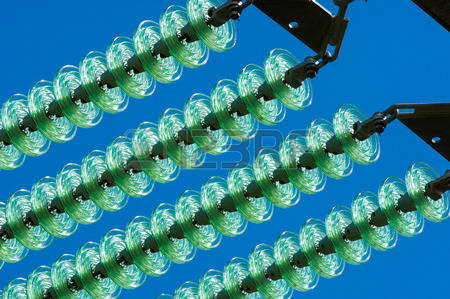isolator: (1, 102, 450, 298), (1, 1, 312, 270)
